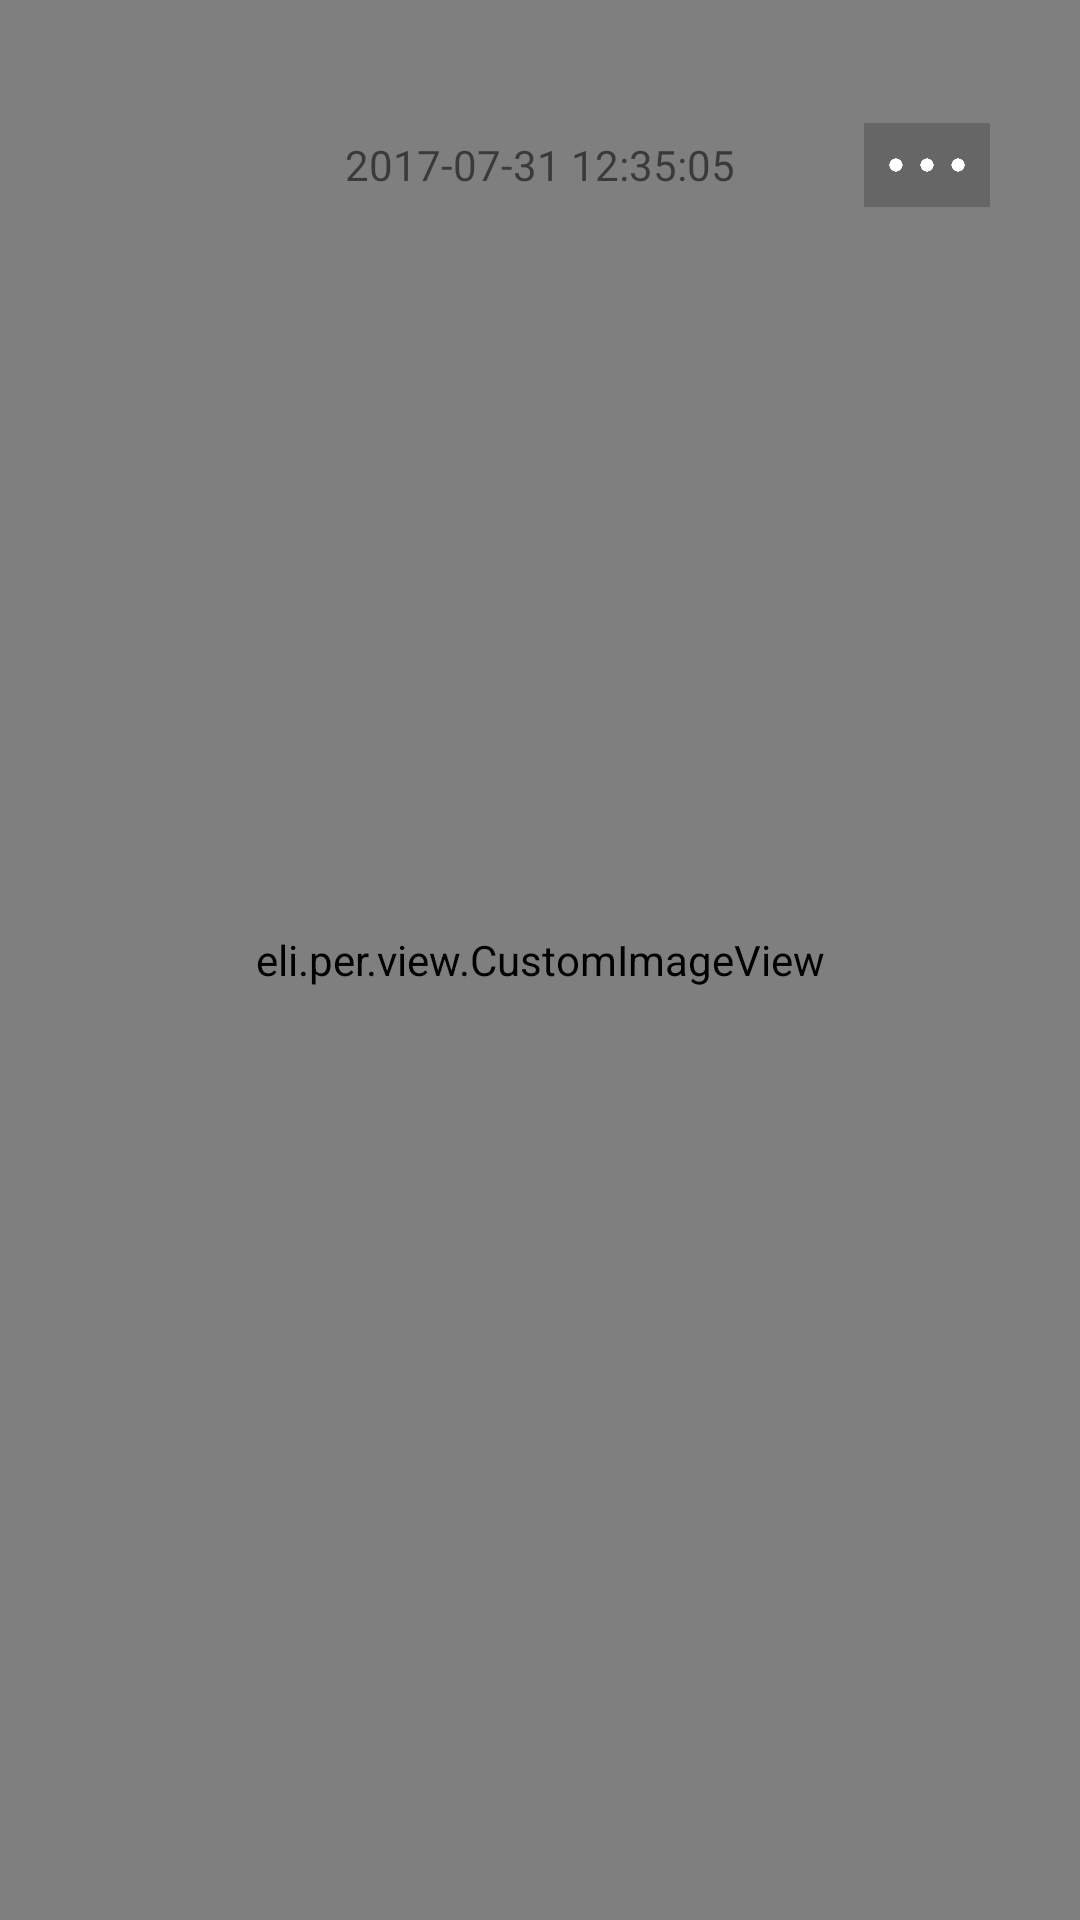

Screen size 1080×1920. Icon name, then its box in pixels as (x1, y1, x2, y2):
more back: (864, 123, 990, 207)
